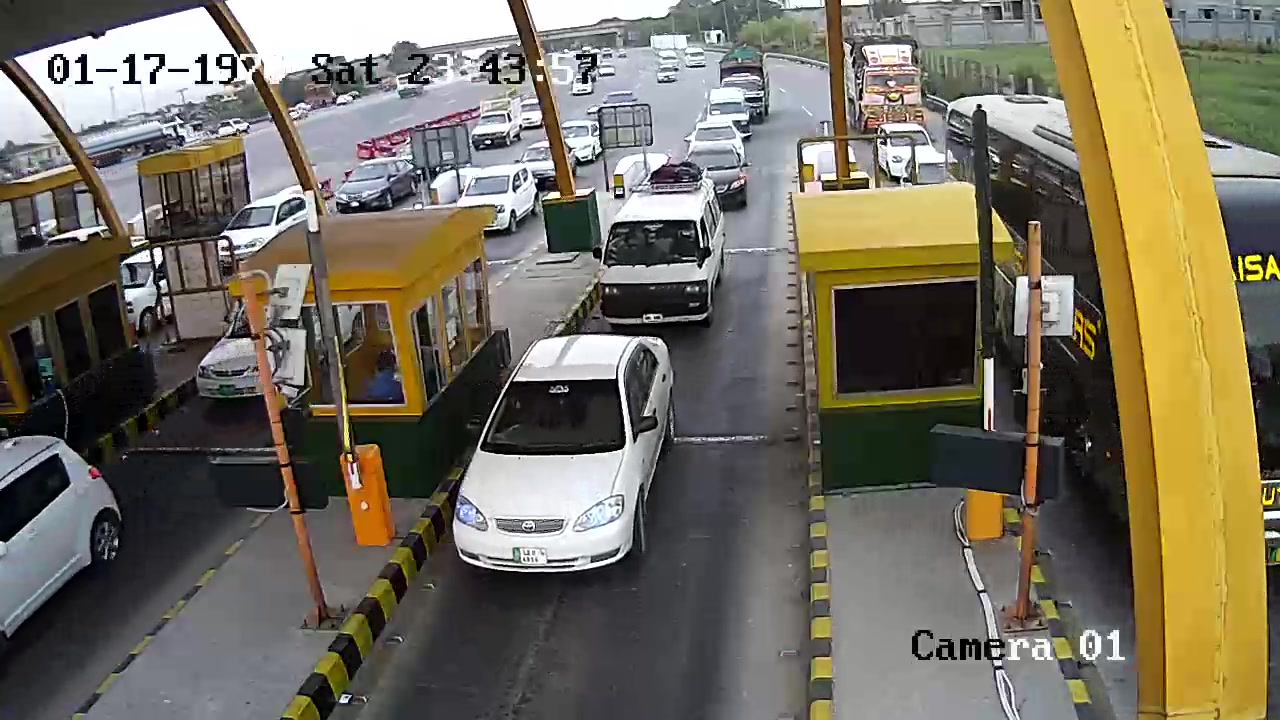F1: (450, 327, 712, 585)
